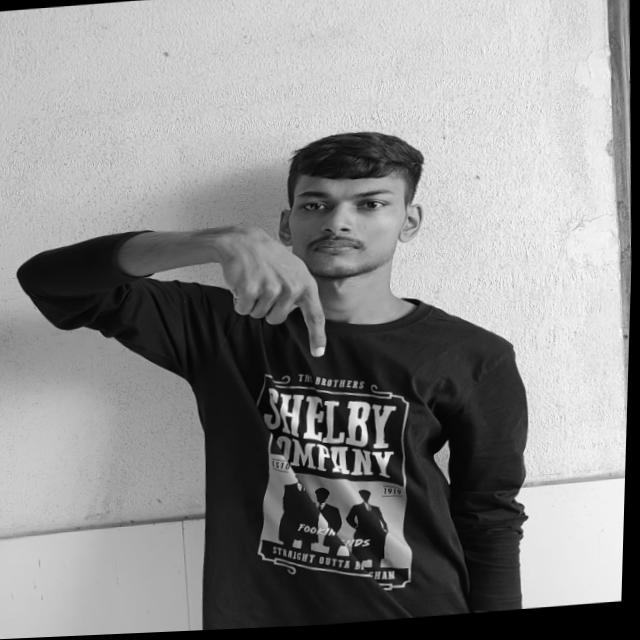Now: (215, 237, 334, 373)
